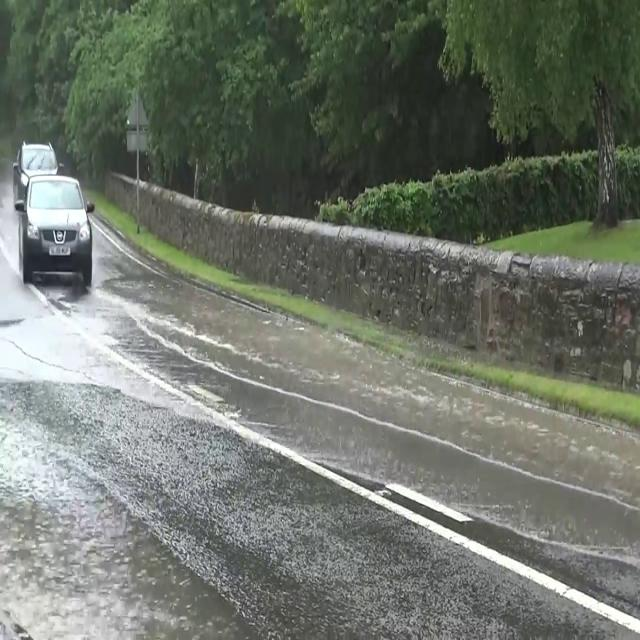license-plate-annotation: (44, 236, 74, 260)
